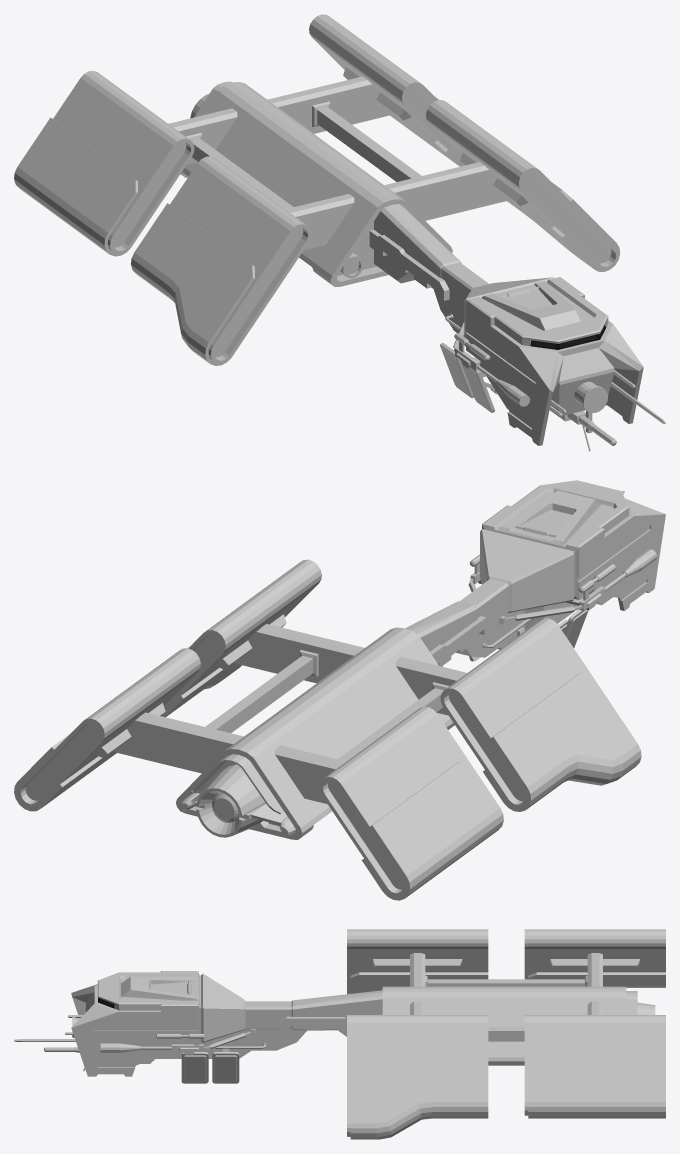
Rendered from transport_science_l0.fbx.
The picture shows the model from 3 angles, top to bottom: view 1: azimuth 30°, elevation 25°; view 2: azimuth 150°, elevation 25°; view 3: azimuth 270°, elevation 25°; orthographic projection. The views are drawn at different scales.
Visible parts, largest first — view 1: mesh_node; view 2: mesh_node; view 3: mesh_node.
Boxes of the visible parts, box(x1,y1,x2,y2) form: mesh_node: box(14, 14, 665, 451); mesh_node: box(14, 480, 665, 900); mesh_node: box(14, 929, 665, 1139).
Bounding box in the file's own units: 61.39 × 18.48 × 110.
